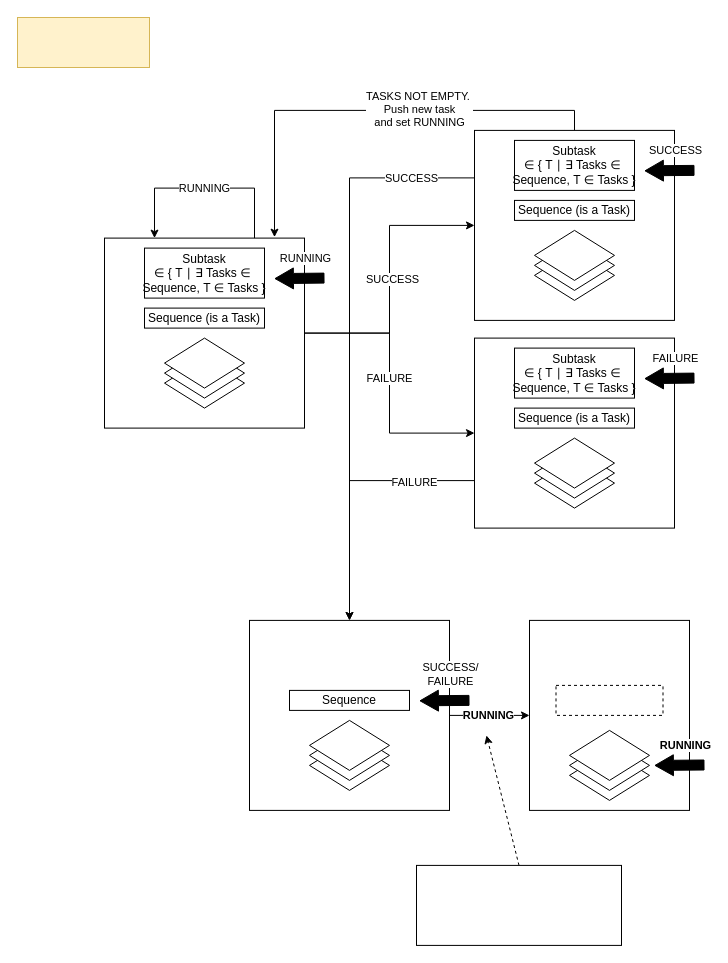
The diagram is 728 pixels wide and 963 high, and some of its shapes have lost their labels. Each missing label, with the centre of its shape:
Await new tasks.: the point at 609,699
Sequence Composite in TSM: the point at 83,42
Since the sequence task was a root task, it will return RUNNING on exit.: the point at 519,904
